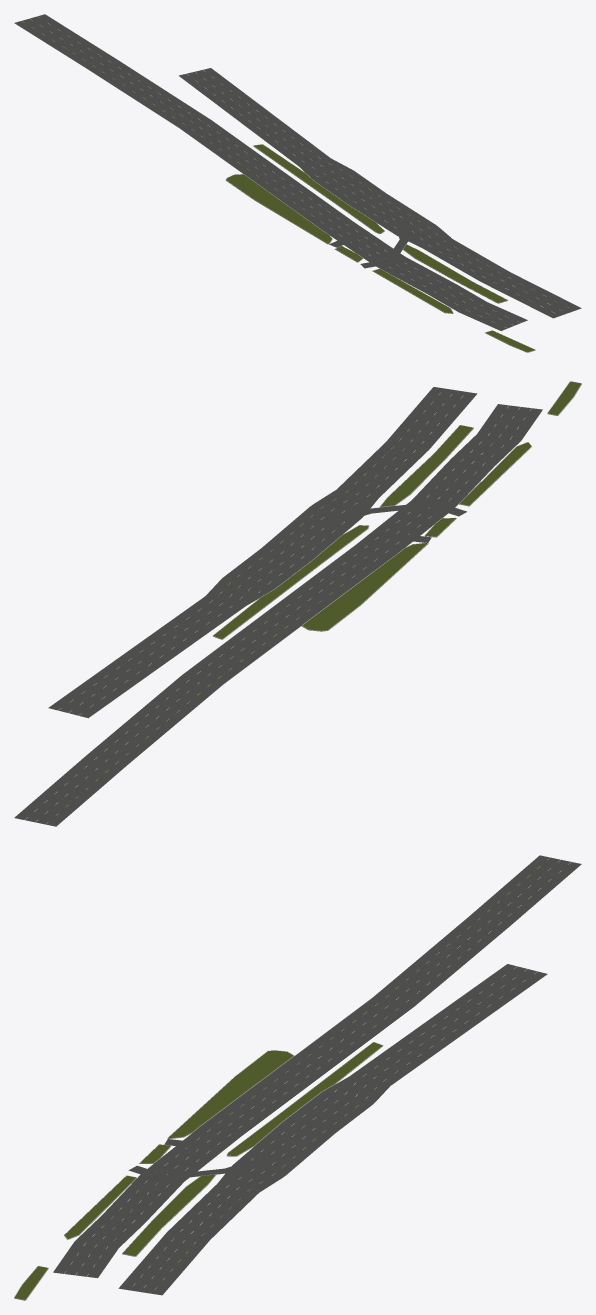
3 views of the same model, one above another, from view 1: azimuth 30°, elevation 25°; view 2: azimuth 150°, elevation 25°; view 3: azimuth 330°, elevation 25° (orthographic). The views are drawn at different scales.
Parts seen in each view (by area): view 1: Asphalt, Tree verges, Kerb stones, Lane paint; view 2: Asphalt, Tree verges, Kerb stones, Lane paint; view 3: Asphalt, Tree verges, Kerb stones, Lane paint.
Boxes of the visible parts, x1,y1,x2,y2 form: Asphalt: (14,14,581,330); Tree verges: (226,144,534,352); Kerb stones: (225,144,535,352); Lane paint: (30,16,561,327); Asphalt: (14,387,542,826); Tree verges: (213,381,581,638); Kerb stones: (212,381,581,639); Lane paint: (24,394,531,822); Asphalt: (53,855,581,1295); Tree verges: (14,1042,382,1299); Kerb stones: (14,1042,383,1300); Lane paint: (64,859,570,1287).
Bounding box in the file's own units: 52.12 × 0.1654 × 310.
5 materials, 4 textured.
